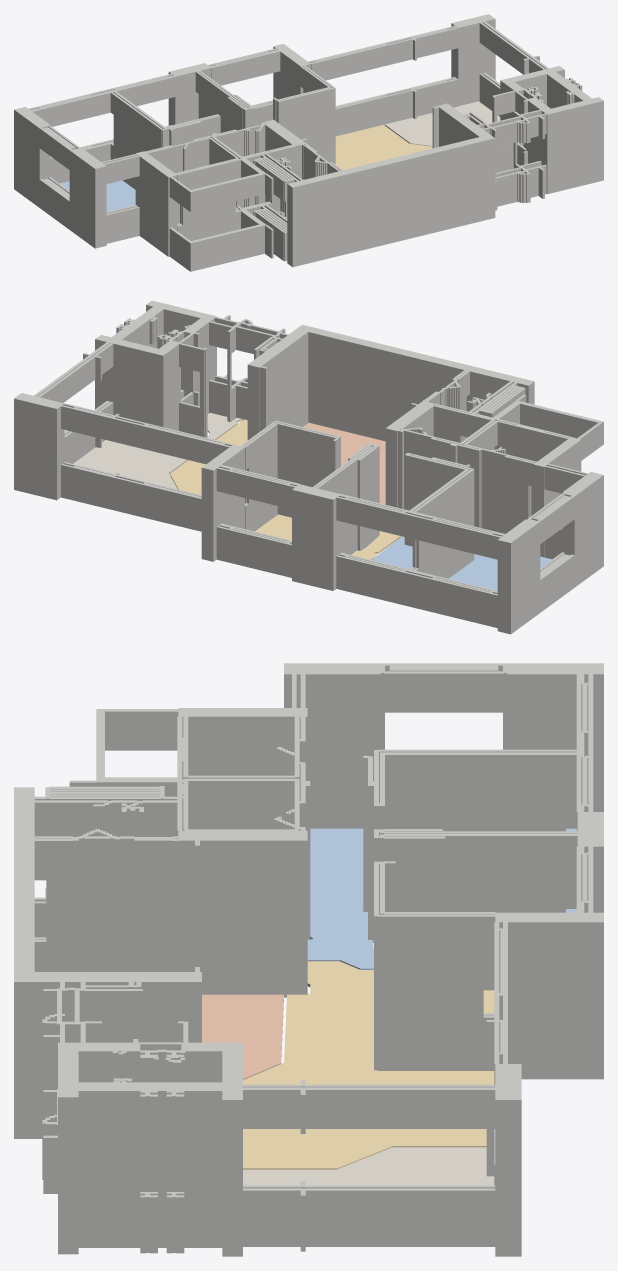
The picture shows the model from 3 angles, top to bottom: view 1: azimuth 30°, elevation 25°; view 2: azimuth 150°, elevation 25°; view 3: azimuth 270°, elevation 25°; orthographic projection. The views are drawn at different scales.
Parts seen in each view (by area): view 1: walls, room:living:4, room:other:3, room:bedroom:0; view 2: walls, room:other:3, room:living:4, room:bedroom:0, room:kitchen:7; view 3: walls, room:living:4, room:bedroom:0, room:other:3, room:kitchen:7.
Boxes of the visible parts, x1=… form: walls: x1=14, y1=14, x2=603, y2=271; room:living:4: x1=335, y1=125, x2=432, y2=169; room:other:3: x1=385, y1=101, x2=500, y2=146; room:bedroom:0: x1=59, y1=180, x2=135, y2=211; walls: x1=14, y1=300, x2=603, y2=634; room:other:3: x1=73, y1=413, x2=242, y2=488; room:living:4: x1=170, y1=419, x2=402, y2=559; room:bedroom:0: x1=372, y1=536, x2=551, y2=590; room:kitchen:7: x1=303, y1=422, x2=385, y2=504; walls: x1=14, y1=663, x2=603, y2=1256; room:living:4: x1=243, y1=961, x2=494, y2=1169; room:bedroom:0: x1=307, y1=828, x2=576, y2=969; room:other:3: x1=243, y1=1147, x2=494, y2=1185; room:kitchen:7: x1=202, y1=994, x2=283, y2=1079.
Size of the model in its own units: 16.7 by 2.8 by 9.54.
